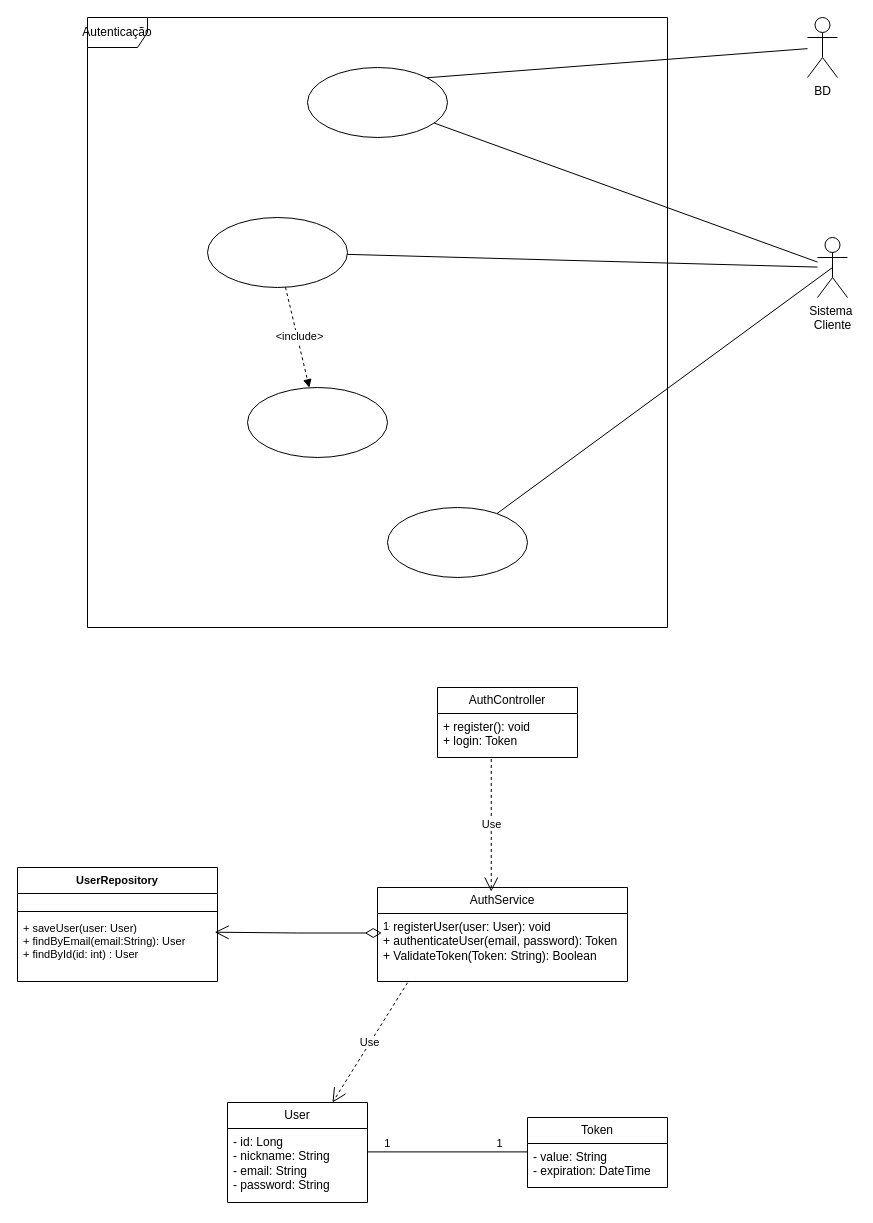
This 873x1223 diagram has some shape labels left out. Here are the shapes that lost their labels. From the top down, the centre of each, then its label:
At pixel 377 102: "Cadastrar Usuário".
At pixel 277 252: "Autenticar Usuário (Login)".
At pixel 317 422: "Gerar Token".
At pixel 457 542: "Verificar Token".
